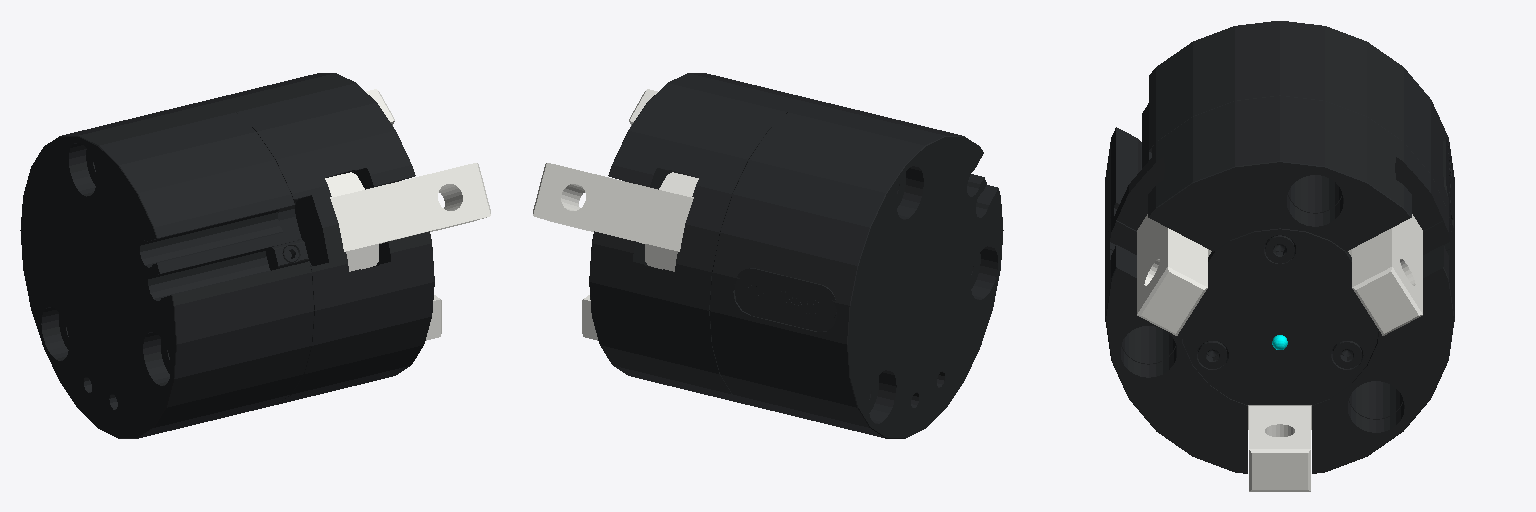
The robot description file, URDF, robot "abb_irb120_schunk_mpz45":
<?xml version="1.0" encoding="utf-8"?>
<!-- =================================================================================== -->
<!-- |    This document was autogenerated by xacro from abb_irb120_schunk_mpz45.xacro  | -->
<!-- |    EDITING THIS FILE BY HAND IS NOT RECOMMENDED                                 | -->
<!-- =================================================================================== -->
<!-- =================================================================================== -->
<!-- |    This document was autogenerated by xacro from abb_irb120_schunk_mpz45.xacro  | -->
<!-- |    EDITING THIS FILE BY HAND IS NOT RECOMMENDED                                 | -->
<!-- =================================================================================== -->
<robot name="abb_irb120_schunk_mpz45">
  <!-- Conversion were obtained from http://www.e-paint.co.uk/Lab_values.asp
       unless otherwise stated. -->
  <!-- link list -->
  <link name="base_link">
    <inertial>
      <mass value="6.215"/>
      <origin rpy="0 0 0" xyz="-0.04204 8.01E-05 0.07964"/>
      <inertia ixx="0.0247272" ixy="-8.0784E-05" ixz="0.00130902" iyy="0.0491285" iyz="-8.0419E-06" izz="0.0472376"/>
    </inertial>
    <visual>
      <origin rpy="0 0 0" xyz="0 0 0"/>
      <geometry>
        <mesh filename="package://abb_irb120_support/meshes/irb120_3_58/visual/base_link.stl"/>
      </geometry>
      <material name="">
        <color rgba="0.7372549 0.3490196 0.1607843 1"/>
      </material>
    </visual>
    <collision>
      <origin rpy="0 0 0" xyz="0 0 0"/>
      <geometry>
        <mesh filename="package://abb_irb120_support/meshes/irb120_3_58/collision/base_link.stl"/>
      </geometry>
      <material name="">
        <color rgba="1 1 0 1"/>
      </material>
    </collision>
  </link>
  <link name="link_1">
    <inertial>
      <mass value="3.067"/>
      <origin rpy="0 0 0" xyz="9.77E-05 -0.00012 0.23841"/>
      <inertia ixx="0.0142175" ixy="-1.28579E-05" ixz="-2.31364E-05" iyy="0.0144041" iyz="1.93404E-05" izz="0.0104533"/>
    </inertial>
    <visual>
      <origin rpy="0 0 0" xyz="0 0 0"/>
      <geometry>
        <mesh filename="package://abb_irb120_support/meshes/irb120_3_58/visual/link_1.stl"/>
      </geometry>
      <material name="">
        <color rgba="0.7372549 0.3490196 0.1607843 1"/>
      </material>
    </visual>
    <collision>
      <origin rpy="0 0 0" xyz="0 0 0"/>
      <geometry>
        <mesh filename="package://abb_irb120_support/meshes/irb120_3_58/collision/link_1.stl"/>
      </geometry>
      <material name="">
        <color rgba="1 1 0 1"/>
      </material>
    </collision>
  </link>
  <link name="link_2">
    <inertial>
      <mass value="3.909"/>
      <origin rpy="0 0 0" xyz="0.00078 -0.00212 0.10124"/>
      <inertia ixx="0.0603111" ixy="9.83431E-06" ixz="5.72407E-05" iyy="0.041569" iyz="-0.00050497" izz="0.0259548"/>
    </inertial>
    <visual>
      <origin rpy="0 0 0" xyz="0 0 0"/>
      <geometry>
        <mesh filename="package://abb_irb120_support/meshes/irb120_3_58/visual/link_2.stl"/>
      </geometry>
      <material name="">
        <color rgba="0.7372549 0.3490196 0.1607843 1"/>
      </material>
    </visual>
    <collision>
      <origin rpy="0 0 0" xyz="0 0 0"/>
      <geometry>
        <mesh filename="package://abb_irb120_support/meshes/irb120_3_58/collision/link_2.stl"/>
      </geometry>
      <material name="">
        <color rgba="1 1 0 1"/>
      </material>
    </collision>
  </link>
  <link name="link_3">
    <inertial>
      <mass value="2.944"/>
      <origin rpy="0 0 0" xyz="0.02281 0.00106 0.05791"/>
      <inertia ixx="0.00835606" ixy="-8.01545E-05" ixz="0.00142884" iyy="0.016713" iyz="-0.000182227" izz="0.0126984"/>
    </inertial>
    <visual>
      <origin rpy="0 0 0" xyz="0 0 0"/>
      <geometry>
        <mesh filename="package://abb_irb120_support/meshes/irb120_3_58/visual/link_3.stl"/>
      </geometry>
      <material name="">
        <color rgba="0.7372549 0.3490196 0.1607843 1"/>
      </material>
    </visual>
    <collision>
      <origin rpy="0 0 0" xyz="0 0 0"/>
      <geometry>
        <mesh filename="package://abb_irb120_support/meshes/irb120_3_58/collision/link_3.stl"/>
      </geometry>
      <material name="">
        <color rgba="1 1 0 1"/>
      </material>
    </collision>
  </link>
  <link name="link_4">
    <inertial>
      <mass value="1.328"/>
      <origin rpy="0 0 0" xyz="0.2247 0.00015 0.00041"/>
      <inertia ixx="0.00284661" ixy="-2.12765E-05" ixz="-1.6435E-05" iyy="0.00401346" iyz="1.31336E-05" izz="0.0052535"/>
    </inertial>
    <visual>
      <origin rpy="0 0 0" xyz="0 0 0"/>
      <geometry>
        <mesh filename="package://abb_irb120_support/meshes/irb120_3_58/visual/link_4.stl"/>
      </geometry>
      <material name="">
        <color rgba="0.7372549 0.3490196 0.1607843 1"/>
      </material>
    </visual>
    <collision>
      <origin rpy="0 0 0" xyz="0 0 0"/>
      <geometry>
        <mesh filename="package://abb_irb120_support/meshes/irb120_3_58/collision/link_4.stl"/>
      </geometry>
      <material name="">
        <color rgba="1 1 0 1"/>
      </material>
    </collision>
  </link>
  <link name="link_5">
    <inertial>
      <mass value="0.546"/>
      <origin rpy="0 0 0" xyz="-0.00109 3.68E-05 6.22E-05"/>
      <inertia ixx="0.000404891" ixy="1.61943E-06" ixz="8.46805E-07" iyy="0.000892825" iyz="-1.51792E-08" izz="0.000815468"/>
    </inertial>
    <visual>
      <origin rpy="0 0 0" xyz="0 0 0"/>
      <geometry>
        <mesh filename="package://abb_irb120_support/meshes/irb120_3_58/visual/link_5.stl"/>
      </geometry>
      <material name="">
        <color rgba="0.7372549 0.3490196 0.1607843 1"/>
      </material>
    </visual>
    <collision>
      <origin rpy="0 0 0" xyz="0 0 0"/>
      <geometry>
        <mesh filename="package://abb_irb120_support/meshes/irb120_3_58/collision/link_5.stl"/>
      </geometry>
      <material name="">
        <color rgba="1 1 0 1"/>
      </material>
    </collision>
  </link>
  <link name="link_6">
    <inertial>
      <mass value="0.137"/>
      <origin rpy="0 0 0" xyz="-0.00706 -0.00017 -1.32E-06"/>
      <inertia ixx="0.001" ixy="0" ixz="0" iyy="0.001" iyz="0" izz="0.001"/>
    </inertial>
    <visual>
      <origin rpy="0 0 0" xyz="0 0 0"/>
      <geometry>
        <mesh filename="package://abb_irb120_support/meshes/irb120_3_58/visual/link_6.stl"/>
      </geometry>
      <material name="">
        <color rgba="0.1882353 0.1960784 0.2039216 1"/>
      </material>
    </visual>
    <collision>
      <origin rpy="0 0 0" xyz="0 0 0"/>
      <geometry>
        <mesh filename="package://abb_irb120_support/meshes/irb120_3_58/collision/link_6.stl"/>
      </geometry>
      <material name="">
        <color rgba="1 1 0 1"/>
      </material>
    </collision>
  </link>
  <link name="tool0"/>
  <!-- end of link list -->
  <!-- joint list -->
  <joint name="joint_1" type="revolute">
    <origin rpy="0 0 0" xyz="0 0 0"/>
    <parent link="base_link"/>
    <child link="link_1"/>
    <limit effort="0" lower="-2.87979" upper="2.87979" velocity="4.36332"/>
    <axis xyz="0 0 1"/>
    <dynamics damping="0.0" friction="0.0"/>
  </joint>
  <joint name="joint_2" type="revolute">
    <origin rpy="0 0 0" xyz="0 0 0.29"/>
    <parent link="link_1"/>
    <child link="link_2"/>
    <limit effort="0" lower="-1.91986" upper="1.91986" velocity="4.36332"/>
    <axis xyz="0 1 0"/>
    <dynamics damping="0.0" friction="0.0"/>
  </joint>
  <joint name="joint_3" type="revolute">
    <origin rpy="0 0 0" xyz="0 0 0.27"/>
    <parent link="link_2"/>
    <child link="link_3"/>
    <limit effort="0" lower="-1.91986" upper="1.22173" velocity="4.36332"/>
    <axis xyz="0 1 0"/>
    <dynamics damping="0.0" friction="0.0"/>
  </joint>
  <joint name="joint_4" type="revolute">
    <origin rpy="0 0 0" xyz="0 0 0.07"/>
    <parent link="link_3"/>
    <child link="link_4"/>
    <limit effort="0" lower="-2.79253" upper="2.79253" velocity="5.58505"/>
    <axis xyz="1 0 0"/>
    <dynamics damping="0.0" friction="0.0"/>
  </joint>
  <joint name="joint_5" type="revolute">
    <origin rpy="0 0 0" xyz="0.302 0 0"/>
    <parent link="link_4"/>
    <child link="link_5"/>
    <limit effort="0" lower="-2.094395" upper="2.094395" velocity="5.58505"/>
    <axis xyz="0 1 0"/>
    <dynamics damping="0.0" friction="0.0"/>
  </joint>
  <joint name="joint_6" type="revolute">
    <origin rpy="0 0 0" xyz="0.072 0 0"/>
    <parent link="link_5"/>
    <child link="link_6"/>
    <limit effort="0" lower="-6.98132" upper="6.98132" velocity="7.33038"/>
    <axis xyz="1 0 0"/>
    <dynamics damping="0.0" friction="0.0"/>
  </joint>
  <joint name="joint6-tool0" type="fixed">
    <parent link="link_6"/>
    <child link="tool0"/>
    <origin rpy="0 0 0" xyz="0 0 0"/>
  </joint>
  <!-- end of joint list -->
  <!-- ROS base_link to ABB World Coordinates transform -->
  <link name="base"/>
  <joint name="base_link-base" type="fixed">
    <origin rpy="0 0 0" xyz="0 0 0"/>
    <parent link="base_link"/>
    <child link="base"/>
  </joint>
  <!-- transmission list -->
  <transmission name="tran1">
    <type>transmission_interface/SimpleTransmission</type>
    <joint name="joint_1">
      <hardwareInterface>hardware_interface/PositionJointInterface</hardwareInterface>
    </joint>
    <actuator name="motor1">
      <mechanicalReduction>1</mechanicalReduction>
    </actuator>
  </transmission>
  <transmission name="tran2">
    <type>transmission_interface/SimpleTransmission</type>
    <joint name="joint_2">
      <hardwareInterface>hardware_interface/PositionJointInterface</hardwareInterface>
    </joint>
    <actuator name="motor2">
      <mechanicalReduction>1</mechanicalReduction>
    </actuator>
  </transmission>
  <transmission name="tran3">
    <type>transmission_interface/SimpleTransmission</type>
    <joint name="joint_3">
      <hardwareInterface>hardware_interface/PositionJointInterface</hardwareInterface>
    </joint>
    <actuator name="motor3">
      <mechanicalReduction>1</mechanicalReduction>
    </actuator>
  </transmission>
  <transmission name="tran4">
    <type>transmission_interface/SimpleTransmission</type>
    <joint name="joint_4">
      <hardwareInterface>hardware_interface/PositionJointInterface</hardwareInterface>
    </joint>
    <actuator name="motor4">
      <mechanicalReduction>1</mechanicalReduction>
    </actuator>
  </transmission>
  <transmission name="tran5">
    <type>transmission_interface/SimpleTransmission</type>
    <joint name="joint_5">
      <hardwareInterface>hardware_interface/PositionJointInterface</hardwareInterface>
    </joint>
    <actuator name="motor5">
      <mechanicalReduction>1</mechanicalReduction>
    </actuator>
  </transmission>
  <transmission name="tran6">
    <type>transmission_interface/SimpleTransmission</type>
    <joint name="joint_6">
      <hardwareInterface>hardware_interface/PositionJointInterface</hardwareInterface>
    </joint>
    <actuator name="motor6">
      <mechanicalReduction>1</mechanicalReduction>
    </actuator>
  </transmission>
  <!-- end of transmission list -->
  <!-- Gazebo-specific link properties -->
  <gazebo reference="base_link">
    <material>Gazebo/Orange</material>
    <turnGravityOff>true</turnGravityOff>
  </gazebo>
  <gazebo reference="link_1">
    <material>Gazebo/Orange</material>
    <turnGravityOff>true</turnGravityOff>
  </gazebo>
  <gazebo reference="link_2">
    <material>Gazebo/Orange</material>
    <turnGravityOff>true</turnGravityOff>
  </gazebo>
  <gazebo reference="link_3">
    <material>Gazebo/Orange</material>
    <turnGravityOff>true</turnGravityOff>
  </gazebo>
  <gazebo reference="link_4">
    <material>Gazebo/Orange</material>
    <turnGravityOff>true</turnGravityOff>
  </gazebo>
  <gazebo reference="link_5">
    <material>Gazebo/Orange</material>
    <turnGravityOff>true</turnGravityOff>
  </gazebo>
  <gazebo reference="link_6">
    <material>Gazebo/Black</material>
    <turnGravityOff>true</turnGravityOff>
  </gazebo>
  <!-- ros_control plugin -->


  <gazebo>
    <plugin filename="libgazebo_ros_control.so" name="gazebo_ros_control">
      <robotNamespace>/</robotNamespace>
      <robotSimType>gazebo_ros_control/DefaultRobotHWSim</robotSimType>
      <legacyModeNS>true</legacyModeNS>
    </plugin>
  </gazebo>
  <!-- Fix robot to Gazebo world -->
  <link name="world"/>
  <joint name="world-base_link-fixed" type="fixed">
    <parent link="world"/>
    <child link="base_link"/>
  </joint>
  <!-- Conversion were obtained from http://www.e-paint.co.uk/Lab_values.asp
       unless otherwise stated. -->
  <link name="head">
    <inertial>
      <mass value="1"/>
      <origin rpy="0 0 -1.57079632679" xyz="0 0 0"/>
      <inertia ixx="0.001" ixy="0" ixz="0" iyy="0.001" iyz="0" izz="0.001"/>
    </inertial>
    <visual>
      <origin rpy="0 0 -1.57079632679" xyz="0 0 0"/>
      <geometry>
        <mesh filename="package://schunk_mpz45/stl/SchunkGripperNoGripperCorrect.stl"/>
      </geometry>
      <material name="">
        <color rgba="0.1882353 0.1960784 0.2039216 1"/>
      </material>
    </visual>
    <collision>
      <origin rpy="0 0 -1.57079632679" xyz="0 0 0"/>
      <geometry>
        <mesh filename="package://schunk_mpz45/stl/SchunkGripperNoGripperCorrect.stl"/>
      </geometry>
      <material name="">
        <color rgba="1 1 0 1"/>
      </material>
    </collision>
  </link>
  <link name="gripper1">
    <inertial>
      <mass value="1"/>
      <origin rpy="1.57079632679 0  -1.57079632679" xyz="0 0 0"/>
      <inertia ixx="0.001" ixy="0" ixz="0" iyy="0.001" iyz="0" izz="0.001"/>
    </inertial>
    <visual>
      <origin rpy="1.57079632679 0  -1.57079632679" xyz="0 0 0"/>
      <geometry>
        <mesh filename="package://schunk_mpz45/stl/SchunkSingleGripper3.stl"/>
      </geometry>
      <material name="">
        <color rgba="0.9254902 0.9254902 0.9058824 1"/>
      </material>
    </visual>
    <collision>
      <origin rpy="1.57079632679 0  -1.57079632679" xyz="0 0 0"/>
      <geometry>
        <mesh filename="package://schunk_mpz45/stl/SchunkSingleGripper3.stl"/>
      </geometry>
      <material name="">
        <color rgba="1 1 0 1"/>
      </material>
    </collision>
  </link>
  <link name="gripper2">
    <inertial>
      <mass value="1"/>
      <origin rpy="1.57079632679 0  -1.57079632679" xyz="0 0 0"/>
      <inertia ixx="0.001" ixy="0" ixz="0" iyy="0.001" iyz="0" izz="0.001"/>
    </inertial>
    <visual>
      <origin rpy="1.57079632679 0  -1.57079632679" xyz="0 0 0"/>
      <geometry>
        <mesh filename="package://schunk_mpz45/stl/SchunkSingleGripper3.stl"/>
      </geometry>
      <material name="">
        <color rgba="0.9254902 0.9254902 0.9058824 1"/>
      </material>
    </visual>
    <collision>
      <origin rpy="1.57079632679 0  -1.57079632679" xyz="0 0 0"/>
      <geometry>
        <mesh filename="package://schunk_mpz45/stl/SchunkSingleGripper3.stl"/>
      </geometry>
      <material name="">
        <color rgba="1 1 0 1"/>
      </material>
    </collision>
  </link>
  <link name="gripper3">
    <inertial>
      <mass value="1"/>
      <origin rpy="1.57079632679 0  -1.57079632679" xyz="0 0 0"/>
      <inertia ixx="0.001" ixy="0" ixz="0" iyy="0.001" iyz="0" izz="0.001"/>
    </inertial>
    <visual>
      <origin rpy="1.57079632679 0  -1.57079632679" xyz="0 0 0"/>
      <geometry>
        <mesh filename="package://schunk_mpz45/stl/SchunkSingleGripper3.stl"/>
      </geometry>
      <material name="">
        <color rgba="0.9254902 0.9254902 0.9058824 1"/>
      </material>
    </visual>
    <collision>
      <origin rpy="1.57079632679 0  -1.57079632679" xyz="0 0 0"/>
      <geometry>
        <mesh filename="package://schunk_mpz45/stl/SchunkSingleGripper3.stl"/>
      </geometry>
      <material name="">
        <color rgba="1 1 0 1"/>
      </material>
    </collision>
  </link>
  <link name="eef">
    <visual>
      <origin rpy="0 0 0" xyz="0 0 0"/>
      <geometry>
        <sphere radius="0.001"/>
      </geometry>
      <material name="Cyan">
        <color rgba="0 1.0 1.0 1.0"/>
      </material>
    </visual>
  </link>
  <joint name="joint_7" type="prismatic">
    <origin rpy="-1.57079632679 -2.61799387799 -1.57079632679" xyz="0 0 0"/>
    <parent link="head"/>
    <child link="gripper1"/>
    <limit effort="310" lower="0" upper="0.005" velocity="0.1"/>
  </joint>
  <joint name="joint_8" type="prismatic">
    <origin rpy="-1.57079632679 -0.523598775598 -1.57079632679" xyz="0 0 0"/>
    <parent link="head"/>
    <child link="gripper2"/>
    <limit effort="310" lower="0" upper="0.005" velocity="0.1"/>
    <mimic joint="joint_7"/>
  </joint>
  <joint name="joint_9" type="prismatic">
    <origin rpy="0 1.57079632679 0" xyz="0 0 0"/>
    <parent link="head"/>
    <child link="gripper3"/>
    <limit effort="310" lower="0" upper="0.005" velocity="0.1"/>
    <mimic joint="joint_7"/>
  </joint>
  <joint name="eef-head" type="fixed">
    <origin rpy="0 0 0" xyz="0.05 0 0"/>
    <parent link="head"/>
    <child link="eef"/>
  </joint>
  <!-- transmission list -->
  <transmission name="tran7">
    <type>transmission_interface/SimpleTransmission</type>
    <joint name="joint_7">
      <hardwareInterface>hardware_interface/EffortJointInterface</hardwareInterface>
    </joint>
    <actuator name="motor7">
      <hardwareInterface>hardware_interface/EffortJointInterface</hardwareInterface>
      <mechanicalReduction>1</mechanicalReduction>
    </actuator>
  </transmission>
  <transmission name="tran8">
    <type>transmission_interface/SimpleTransmission</type>
    <joint name="joint_8">
      <hardwareInterface>hardware_interface/EffortJointInterface</hardwareInterface>
    </joint>
    <actuator name="motor8">
      <hardwareInterface>hardware_interface/EffortJointInterface</hardwareInterface>
      <mechanicalReduction>1</mechanicalReduction>
    </actuator>
  </transmission>
  <transmission name="tran9">
    <type>transmission_interface/SimpleTransmission</type>
    <joint name="joint_9">
      <hardwareInterface>hardware_interface/EffortJointInterface</hardwareInterface>
    </joint>
    <actuator name="motor9">
      <hardwareInterface>hardware_interface/EffortJointInterface</hardwareInterface>
      <mechanicalReduction>1</mechanicalReduction>
    </actuator>
  </transmission>
  <!-- end of transmission list -->
  <!-- Gazebo-specific link properties -->
  <gazebo reference="head">
    <material>Gazebo/Grey</material>
    <turnGravityOff>true</turnGravityOff>
  </gazebo>
  <gazebo reference="gripper1">
    <material>Gazebo/White</material>
    <turnGravityOff>true</turnGravityOff>
  </gazebo>
  <gazebo reference="gripper2">
    <material>Gazebo/White</material>
    <turnGravityOff>true</turnGravityOff>
  </gazebo>
  <gazebo reference="gripper3">
    <material>Gazebo/White</material>
    <turnGravityOff>true</turnGravityOff>
  </gazebo>
  <!-- ros_control plugin -->
  <joint name="joint_10" type="fixed">
    <origin rpy="0 0 0" xyz="0 0 0"/>
    <parent link="tool0"/>
    <child link="head"/>
  </joint>
</robot>

--- Facts derived from the render (not from the file) ---
Views: 3 orthographic renders of the robot side by side, from view 1: azimuth 30°, elevation 25°; view 2: azimuth 150°, elevation 25°; view 3: azimuth 270°, elevation 25°.
Robot: abb_irb120_schunk_mpz45 — 15 links, 14 joints (6 revolute, 3 prismatic, 5 fixed); root link world; default pose: every joint at zero.
Links seen in each view (by area): view 1: head, gripper2; view 2: head, gripper1; view 3: head, gripper1, gripper2, gripper3.
Link boxes in pixels (<box>): head: <box>20,73,434,438</box>; gripper2: <box>325,163,490,271</box>; head: <box>589,73,1003,438</box>; gripper1: <box>533,163,698,271</box>; head: <box>1105,21,1454,473</box>; gripper1: <box>1348,214,1422,335</box>; gripper2: <box>1137,214,1211,335</box>; gripper3: <box>1248,405,1311,491</box>.
Size in the robot's own frame: 0.055 by 0.045 by 0.045 metres.
Meshes: 9 distinct files referenced, 4 mesh visuals loaded (2 binary STL); not drawn: 7 (reference not matched to a file when rendering).